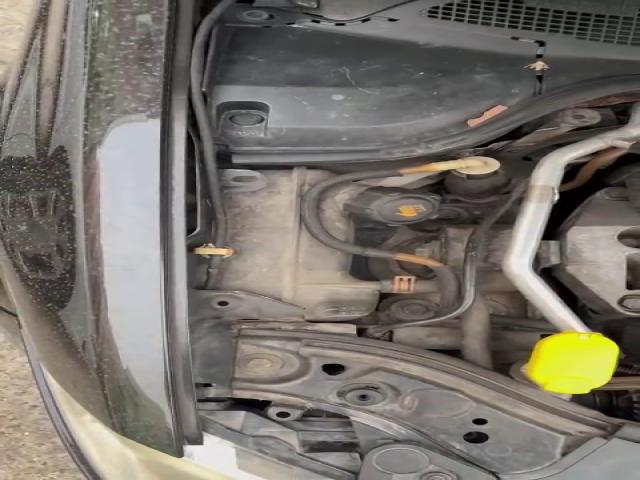antifreeze_tank: (219, 167, 378, 321), (320, 183, 442, 241)
